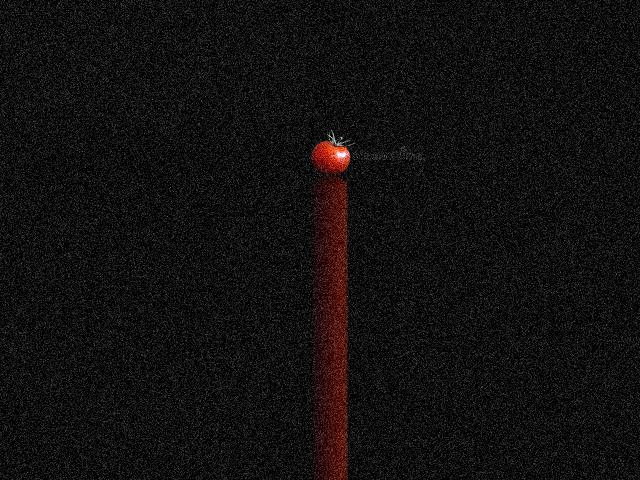tomato: (312, 141, 350, 174)
